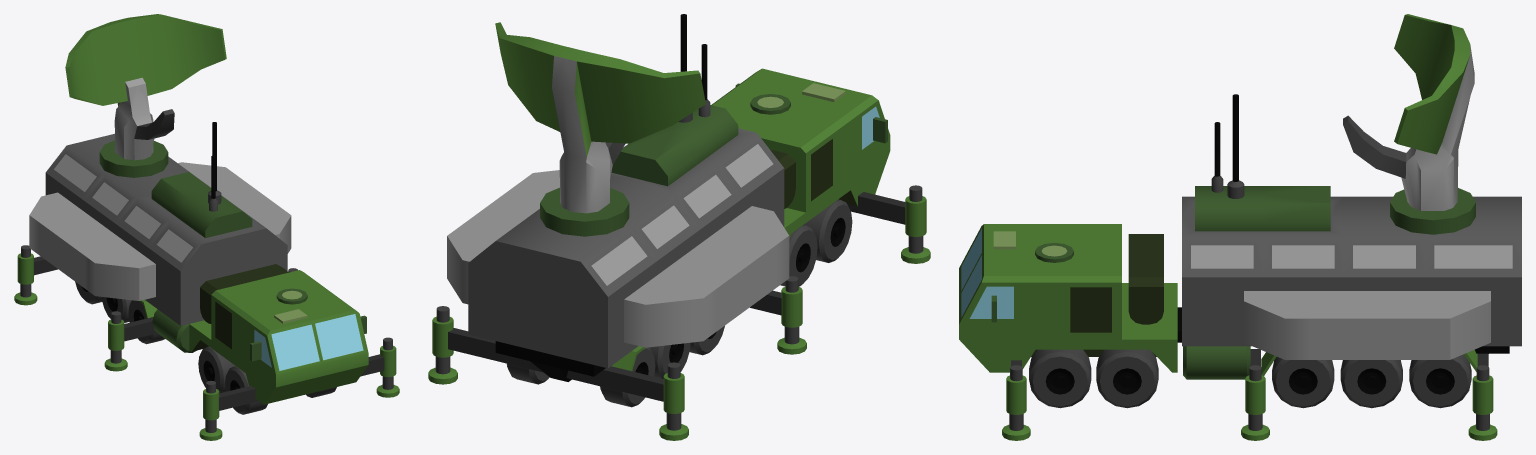
Rendered from Big Truck 5.fbx.
3 views of the same model, side by side, from view 1: azimuth 30°, elevation 25°; view 2: azimuth 150°, elevation 25°; view 3: azimuth 270°, elevation 25° (orthographic). The views are drawn at different scales.
Visible parts, largest first — view 1: Cube.530, Cube.523, Plane.083, Cylinder.445, Cylinder.603, Cube.526, Cylinder.600, Cylinder.598, Cylinder.446, Cube.395, Cylinder.447, Cylinder.599 (+3 smaller); view 2: Cube.530, Plane.083, Cube.523, Cylinder.447, Cube.397, Cylinder.600, Cylinder.603, Cylinder.597, Cube.528, Cylinder.445, Cylinder.446, Cylinder.598 (+7 smaller); view 3: Cube.530, Cube.523, Plane.083, Cylinder.600, Cylinder.597, Cylinder.598, Cube.526, Cylinder.603, Cylinder.599, Cylinder.447, Cylinder.446, Cylinder.445 (+3 smaller).
Boxes of the visible parts, <box> form: Cube.530: <box>29,133,291,325</box>; Cube.523: <box>189,270,368,404</box>; Plane.083: <box>65,14,226,160</box>; Cylinder.445: <box>199,337,399,440</box>; Cylinder.603: <box>99,140,168,177</box>; Cube.526: <box>200,264,288,323</box>; Cylinder.600: <box>75,281,164,344</box>; Cylinder.598: <box>198,346,235,393</box>; Cylinder.446: <box>104,268,297,371</box>; Cube.395: <box>219,354,384,410</box>; Cylinder.447: <box>14,245,37,305</box>; Cylinder.599: <box>152,309,196,352</box>; Cube.530: <box>447,105,789,368</box>; Plane.083: <box>495,22,705,213</box>; Cube.523: <box>711,68,890,238</box>; Cylinder.447: <box>428,306,688,440</box>; Cube.397: <box>448,328,663,401</box>; Cylinder.600: <box>506,326,724,407</box>; Cylinder.603: <box>540,187,629,236</box>; Cylinder.597: <box>804,199,852,262</box>; Cube.528: <box>495,341,605,381</box>; Cylinder.445: <box>901,185,930,263</box>; Cylinder.446: <box>777,276,806,354</box>; Cylinder.598: <box>780,225,817,286</box>; Cube.530: <box>1182,186,1521,359</box>; Cube.523: <box>959,224,1177,372</box>; Plane.083: <box>1343,14,1474,210</box>; Cylinder.600: <box>1272,354,1471,408</box>; Cylinder.597: <box>1029,349,1091,408</box>; Cylinder.598: <box>1096,349,1158,408</box>; Cube.526: <box>1128,234,1163,324</box>; Cylinder.603: <box>1390,188,1475,234</box>; Cylinder.599: <box>1183,346,1250,379</box>; Cylinder.447: <box>1468,365,1497,440</box>; Cylinder.446: <box>1241,365,1269,440</box>; Cylinder.445: <box>1002,365,1030,440</box>.
Size of the model in its own units: 1611 by 2086 by 3167.
